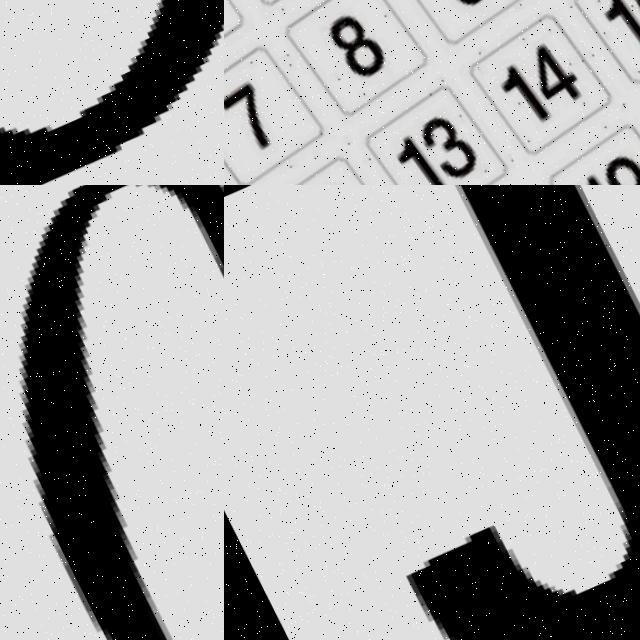0: (0, 185, 224, 640)
1: (487, 52, 558, 140), (371, 112, 455, 185), (588, 0, 640, 63), (561, 154, 640, 185)
2: (296, 163, 384, 185)
3: (405, 95, 494, 185)
4: (510, 26, 595, 122)
7: (224, 70, 293, 166)
8: (309, 0, 400, 92)
9: (586, 132, 640, 185), (414, 0, 503, 25)
J: (224, 185, 640, 640)
